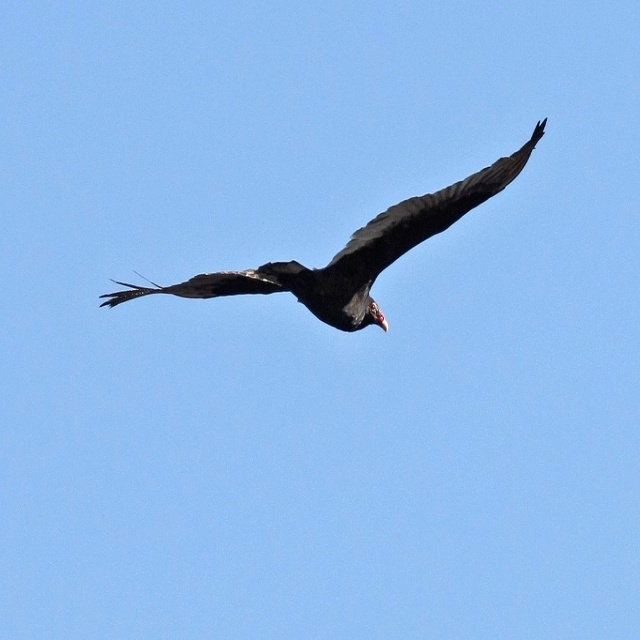Eagle: (96, 114, 551, 342)
